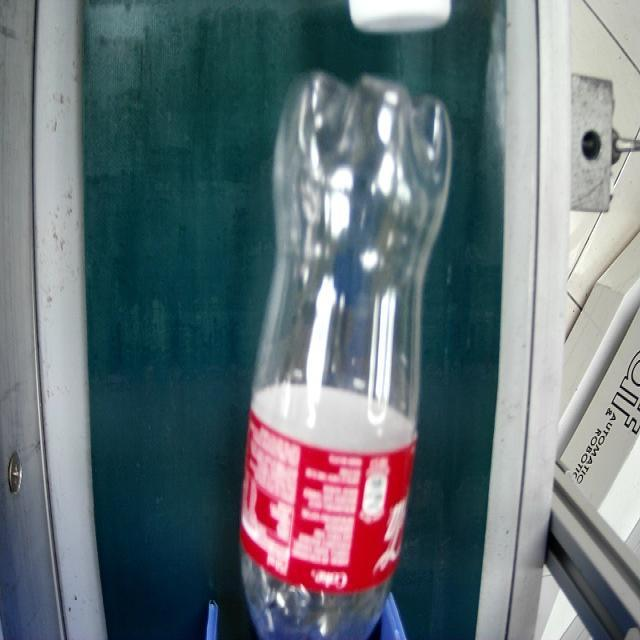Pet_Bottle: (241, 73, 443, 640)
